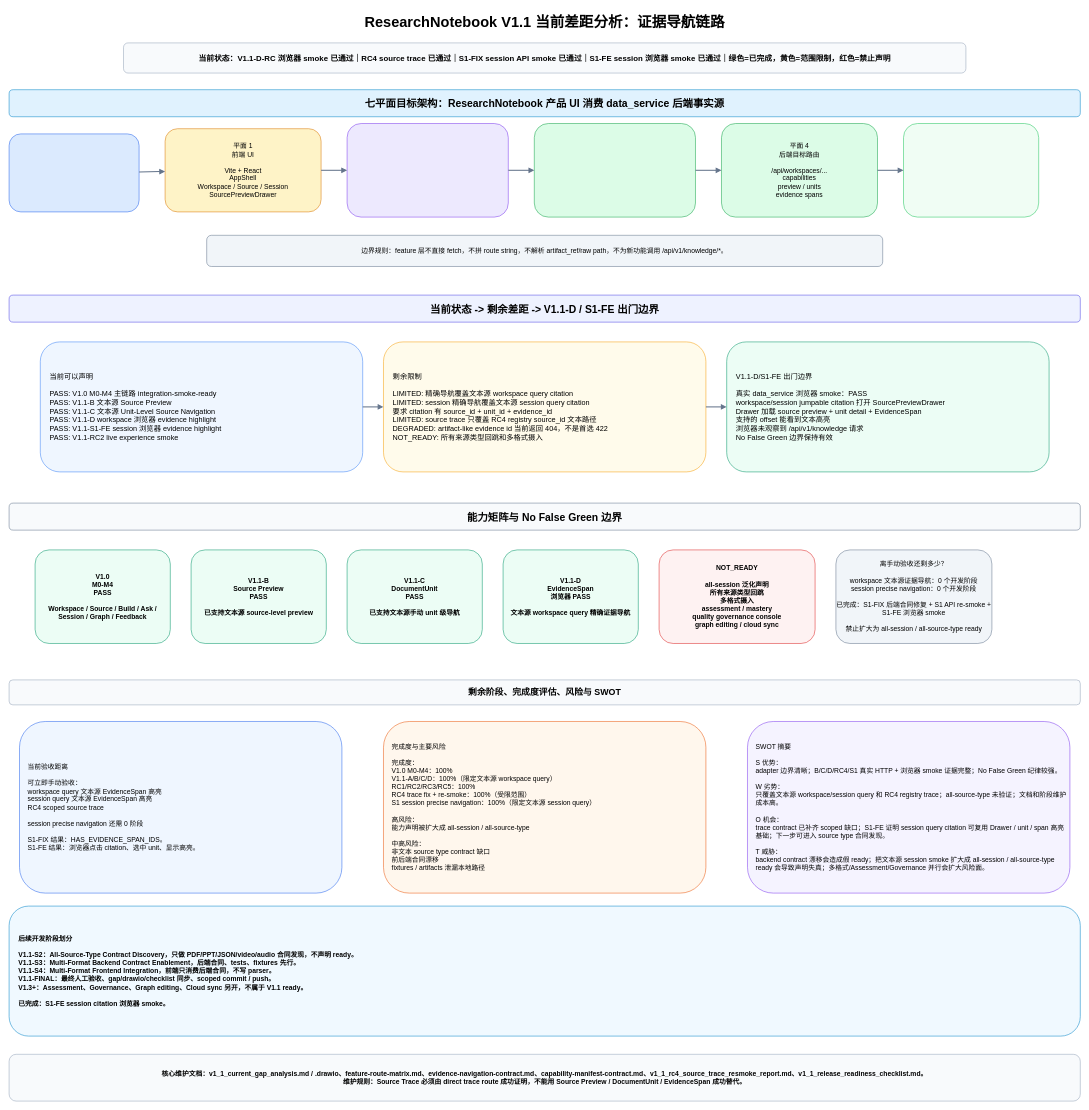
The diagram is 1089 pixels wide and 1110 high, and some of its shapes have lost their labels. Here are the shapes that lost their labels. From the top down, the centre of each, then its label:
(74,172): 平面 0 产品交互 Workspace 提问 Source Library 预览抽屉 证据 citation
(427,170): 平面 2 应用状态 TanStack Query 抽屉局部状态 selectedUnitId evidence target state
(615,170): 平面 3 API 适配边界 dataServiceClient.ts typed wrappers 后端 raw shape 映射 统一错误模型
(971,170): 平面 5 data_service registry source_id DocumentUnit EvidenceSpan query evidence
